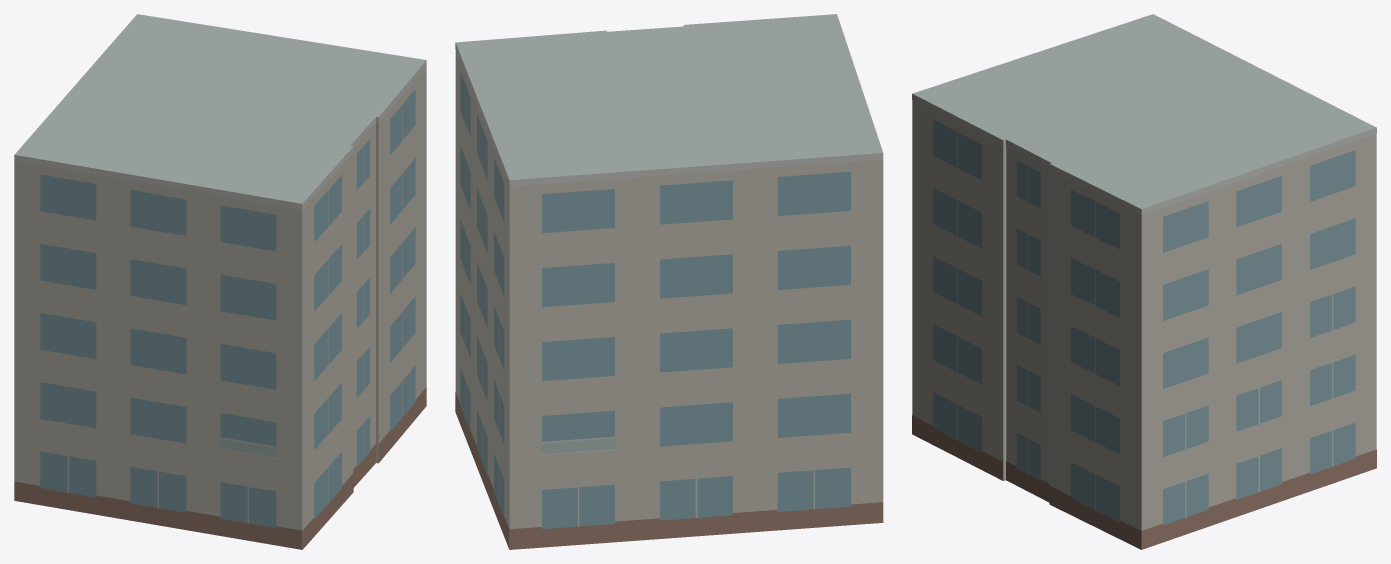
Rendered from survey-upis-32952895.glb.
The picture shows the model from 3 angles, left to right: view 1: azimuth 30°, elevation 25°; view 2: azimuth 150°, elevation 25°; view 3: azimuth 270°, elevation 25°; orthographic projection. The views are drawn at different scales.
Visible parts, largest first — view 1: survey-upis-32952895.tmp; view 2: survey-upis-32952895.tmp; view 3: survey-upis-32952895.tmp.
Part boxes in pixels (x1,y1,x2,y2): survey-upis-32952895.tmp: [14, 14, 426, 549]; survey-upis-32952895.tmp: [455, 14, 883, 549]; survey-upis-32952895.tmp: [912, 14, 1376, 549].
Bounding box in the file's own units: 17.09 × 13.9 × 17.18.
